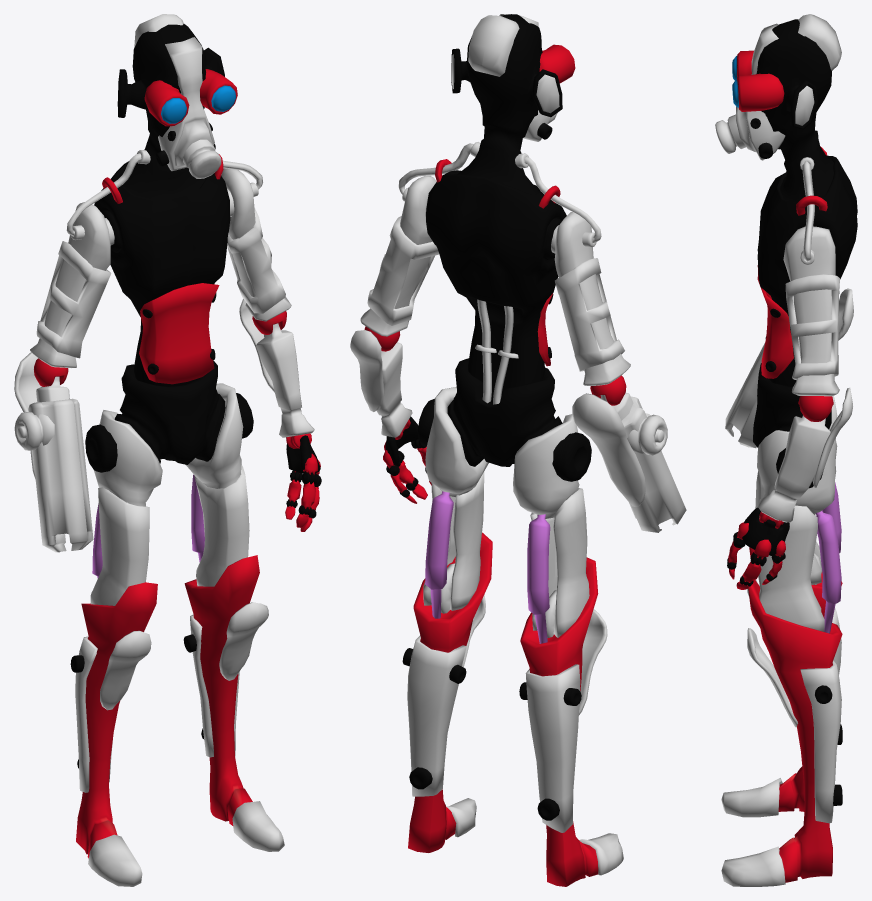
File: Enemy_droid_ranged_01.fbx
3 renders of one model, left to right at view 1: azimuth 30°, elevation 25°; view 2: azimuth 150°, elevation 25°; view 3: azimuth 270°, elevation 25°, orthographic. The views are drawn at different scales.
Visible parts, largest first — view 1: Cube.016, Cube.019, Cube.020, Cylinder.012, Cube.024, Cube.015, Cube.023, Cube.022, Cube.027, Cube.013, Cube.018, Cube.067 (+11 smaller); view 2: Cube.016, Cube.020, Cube.067, Cube.019, Cube.024, Cube.015, male body_01.009, Cube.025, Cylinder.012, Cube.017, male body_01.016, Cube.018 (+12 smaller); view 3: Cube.016, Cube.019, Cube.020, Cube.015, Cube.067, Cube.018, Cube.027, Cube.024, male body_01.009, Cylinder.002, Cube.013, Cube.023 (+14 smaller).
Boxes of the visible parts, <box> form: Cube.016: <box>94,24,230,464</box>; Cube.019: <box>76,555,259,858</box>; Cube.020: <box>90,383,249,605</box>; Cylinder.012: <box>28,398,93,552</box>; Cube.024: <box>36,207,285,358</box>; Cube.015: <box>30,168,291,368</box>; Cube.023: <box>139,283,219,384</box>; Cube.022: <box>100,602,268,710</box>; Cube.027: <box>88,801,284,886</box>; Cube.013: <box>158,37,214,170</box>; Cube.018: <box>256,323,314,437</box>; Cube.067: <box>75,614,239,792</box>; Cube.016: <box>426,14,566,466</box>; Cube.020: <box>423,387,589,637</box>; Cube.067: <box>407,635,580,832</box>; Cube.019: <box>408,532,598,886</box>; Cube.024: <box>367,216,624,371</box>; Cube.015: <box>360,176,630,385</box>; male body_01.009: <box>425,491,550,643</box>; Cube.025: <box>572,393,645,506</box>; Cylinder.012: <box>621,396,686,532</box>; Cube.017: <box>468,15,519,76</box>; male body_01.016: <box>417,398,591,481</box>; Cube.018: <box>376,342,412,437</box>; Cube.016: <box>753,19,857,447</box>; Cube.019: <box>748,547,842,882</box>; Cube.020: <box>755,396,837,631</box>; Cube.015: <box>783,171,839,396</box>; Cube.067: <box>800,608,841,823</box>; Cube.018: <box>758,415,830,522</box>; Cube.027: <box>721,778,785,886</box>; Cube.024: <box>785,274,839,379</box>; male body_01.009: <box>815,482,841,633</box>; Cylinder.002: <box>732,50,784,111</box>; Cube.013: <box>736,23,785,160</box>; Cube.023: <box>757,265,793,378</box>.
Bounding box in the file's own units: 108 × 300 × 46.72.
